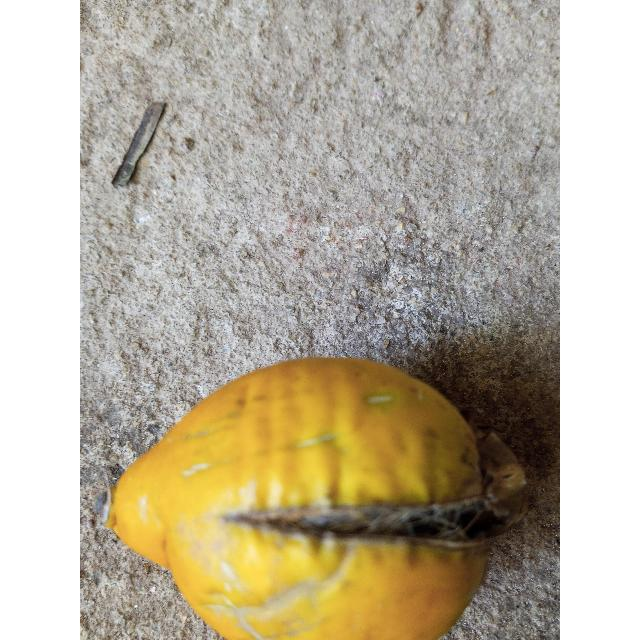damaged: (105, 357, 491, 640)
